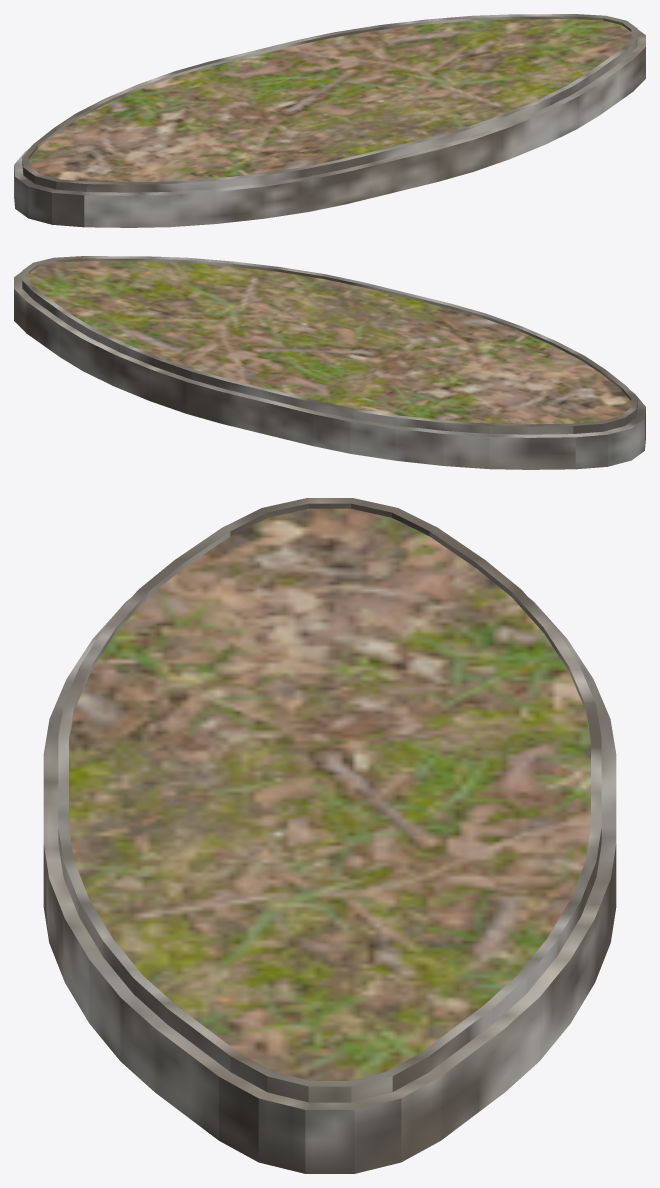
Rendered from Taman Depan.fbx.
3 renders of one model, top to bottom at view 1: azimuth 30°, elevation 25°; view 2: azimuth 150°, elevation 25°; view 3: azimuth 270°, elevation 25°, orthographic. The views are drawn at different scales.
Visible parts, largest first — view 1: Taman depan; view 2: Taman depan; view 3: Taman depan.
Boxes of the visible parts, box(x1,y1,x2,y2) form: Taman depan: box(14, 14, 645, 227); Taman depan: box(14, 256, 645, 469); Taman depan: box(43, 498, 616, 1173).
Bounding box in the file's own units: 1586 × 98.14 × 636.
2 materials, 2 textured.
